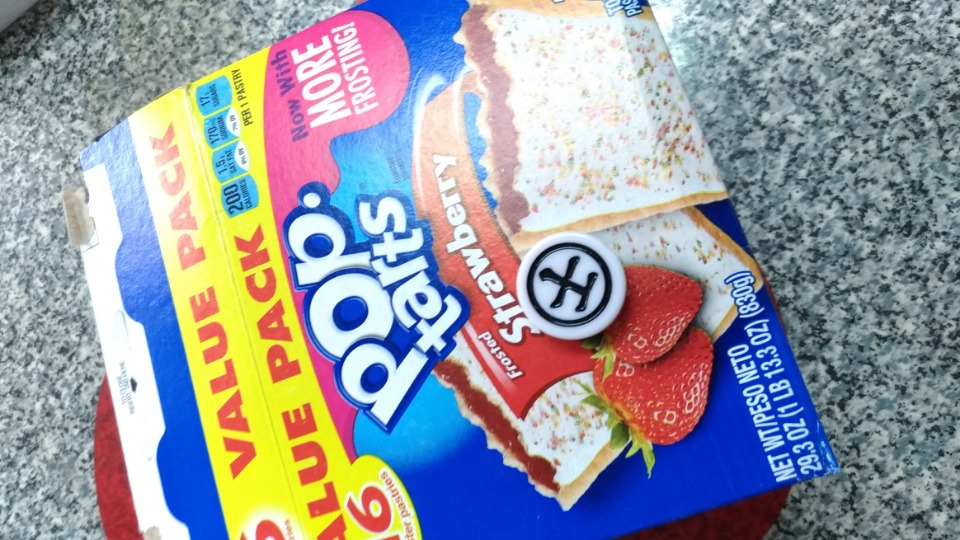b-advisor: (502, 225, 682, 350)
